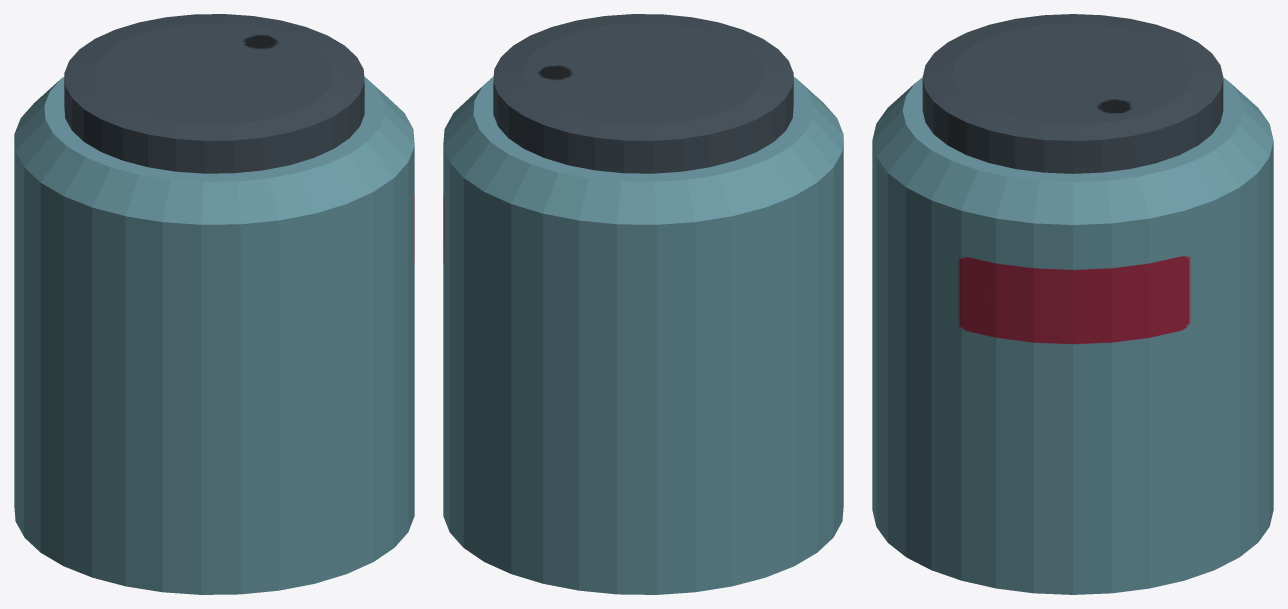
File: Storage-barrel.glb
The picture shows the model from 3 angles, left to right: view 1: azimuth 30°, elevation 25°; view 2: azimuth 150°, elevation 25°; view 3: azimuth 270°, elevation 25°; orthographic projection.
Parts seen in each view (by area): view 1: Cylinder.001; view 2: Cylinder.001; view 3: Cylinder.001.
Part boxes in pixels (x1,y1,x2,y2): Cylinder.001: [14, 14, 414, 594]; Cylinder.001: [443, 14, 843, 594]; Cylinder.001: [872, 14, 1273, 594].
Bounding box in the file's own units: 4 × 4.8 × 4.
Materials: 1 (1 with a texture image).
